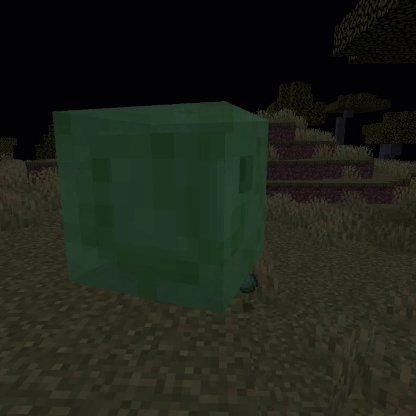slime: (49, 95, 273, 318)
